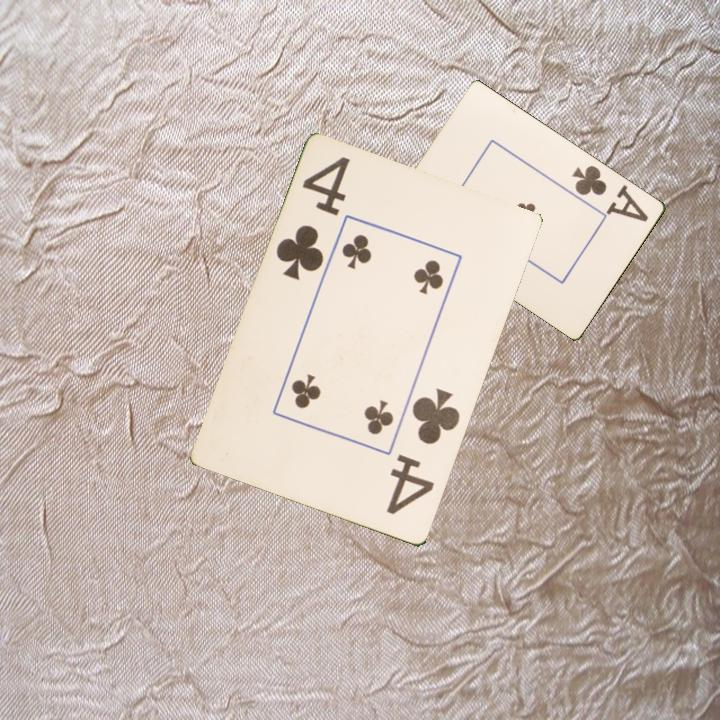4c: (383, 385, 464, 518), (272, 153, 354, 284)
Ac: (569, 162, 652, 225)
